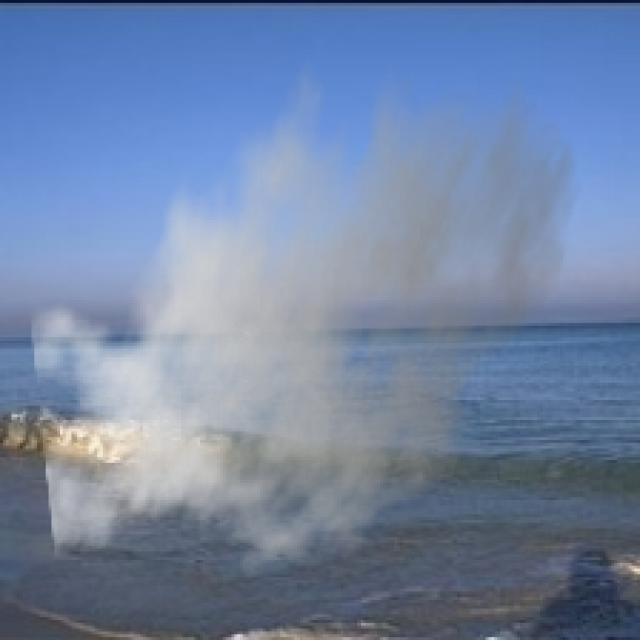Smoke: (28, 26, 583, 594)
